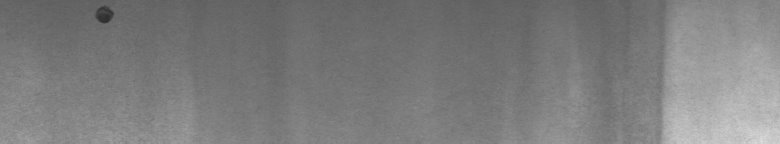fi: (89, 4, 117, 32)
